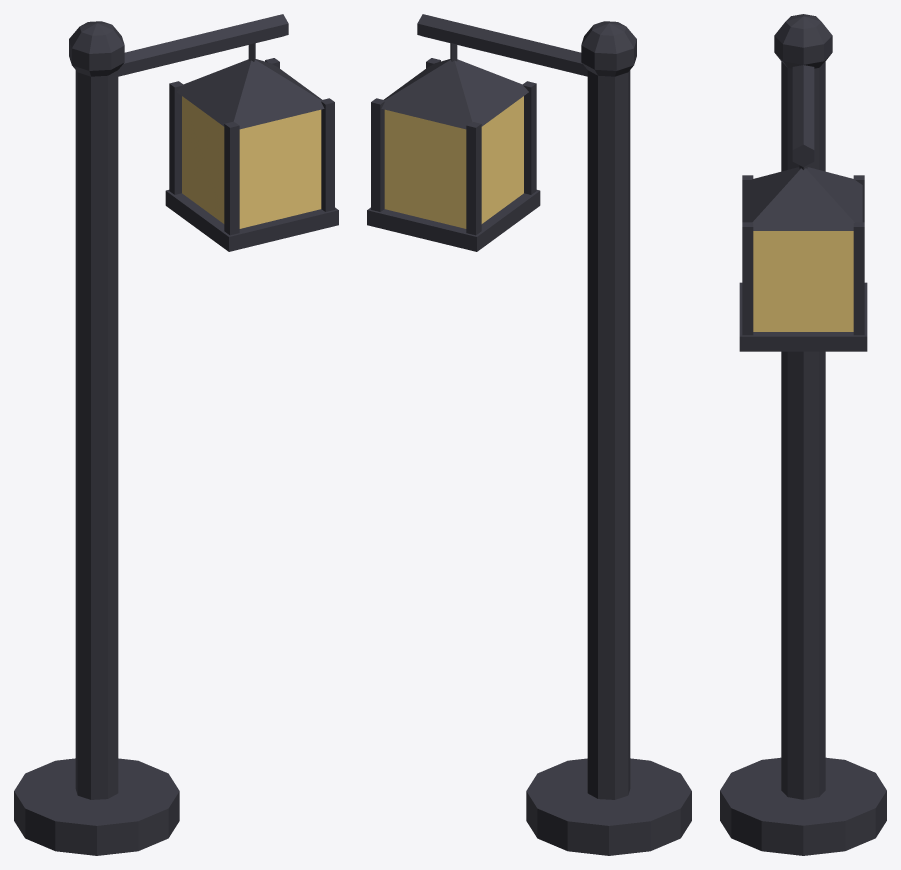
Rendered from Lanterna.fbx.
3 views of the same model, side by side, from view 1: azimuth 30°, elevation 25°; view 2: azimuth 150°, elevation 25°; view 3: azimuth 270°, elevation 25° (orthographic).
Parts seen in each view (by area): view 1: Poste_Lanterna, Vidro_Lanterna; view 2: Poste_Lanterna, Vidro_Lanterna; view 3: Poste_Lanterna, Vidro_Lanterna.
Boxes of the visible parts, x1=… form: Poste_Lanterna: x1=14, y1=14, x2=338, y2=855; Vidro_Lanterna: x1=182, y1=96, x2=321, y2=228; Poste_Lanterna: x1=367, y1=14, x2=691, y2=855; Vidro_Lanterna: x1=384, y1=96, x2=523, y2=228; Poste_Lanterna: x1=720, y1=14, x2=886, y2=855; Vidro_Lanterna: x1=753, y1=231, x2=853, y2=331.
Bounding box in the file's own units: 1.18 × 3.19 × 0.6.
Materials: 1 (1 with a texture image).
